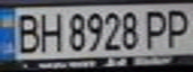2: (103, 9, 124, 52)
8: (118, 8, 142, 51), (63, 9, 87, 52)
9: (84, 9, 106, 52)
B: (9, 10, 42, 55)
H: (36, 9, 63, 53)
P: (139, 7, 172, 51), (160, 6, 193, 49)
